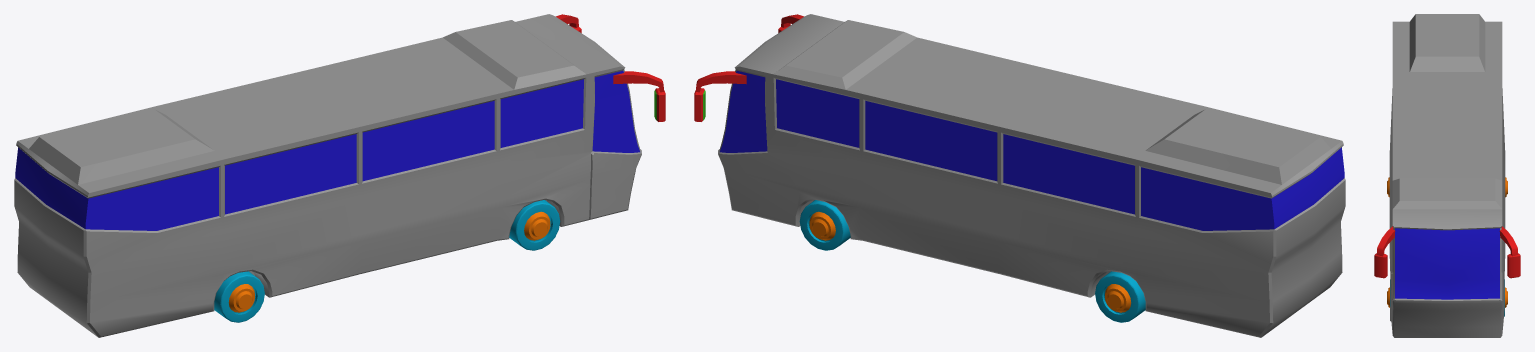
Rendered from Bus.FBX.
3 renders of one model, left to right at view 1: azimuth 30°, elevation 25°; view 2: azimuth 150°, elevation 25°; view 3: azimuth 270°, elevation 25°, orthographic. The views are drawn at different scales.
Parts seen in each view (by area): view 1: Plane011; view 2: Plane011; view 3: Plane011.
Boxes of the visible parts, x1,y1,x2,y2 form: Plane011: (14, 14, 665, 337); Plane011: (694, 14, 1345, 337); Plane011: (1374, 14, 1520, 337).
Bounding box in the file's own units: 967 × 286 × 277.
